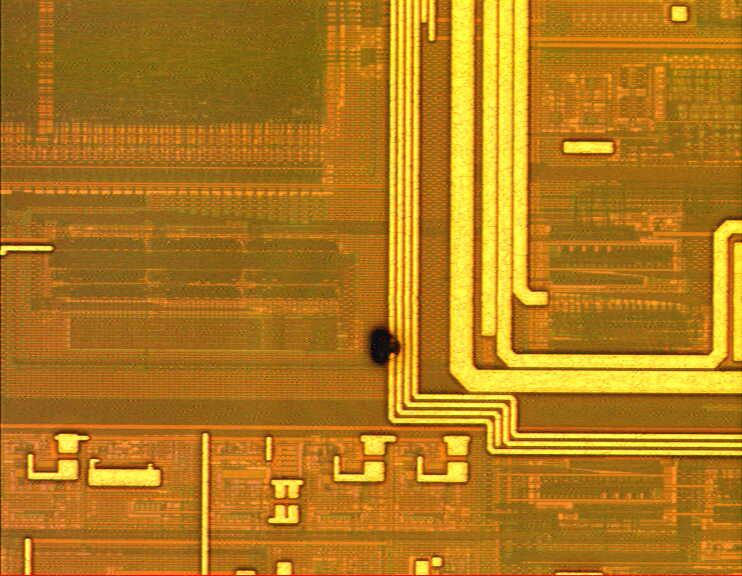PIQ PARTICLE: (360, 322, 408, 370)
